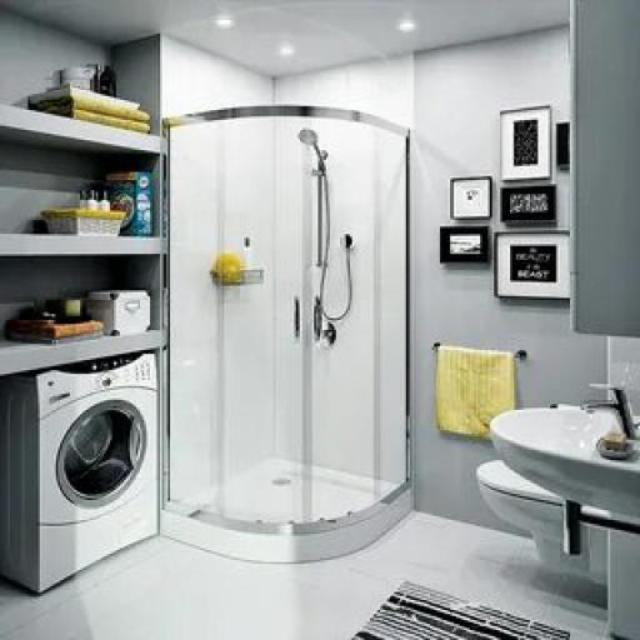Washing-Machine: (6, 364, 158, 570)
